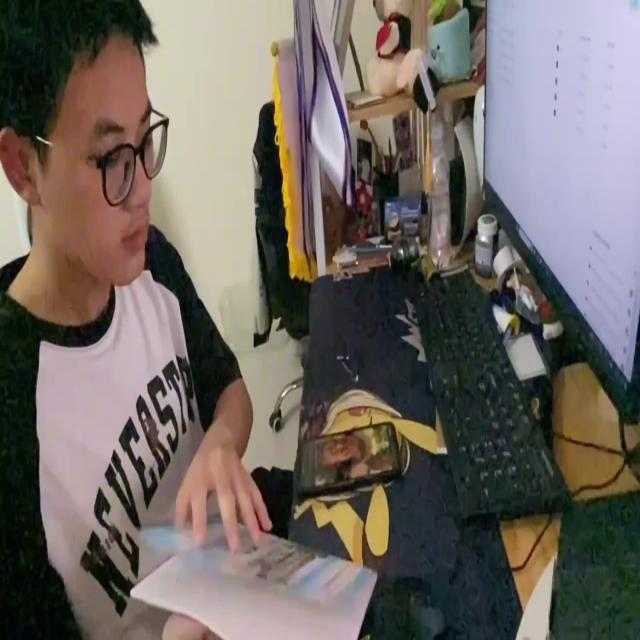book: (123, 506, 376, 640)
laptop: (480, 0, 640, 412)
phone: (286, 413, 404, 492)
student: (0, 1, 272, 640)
